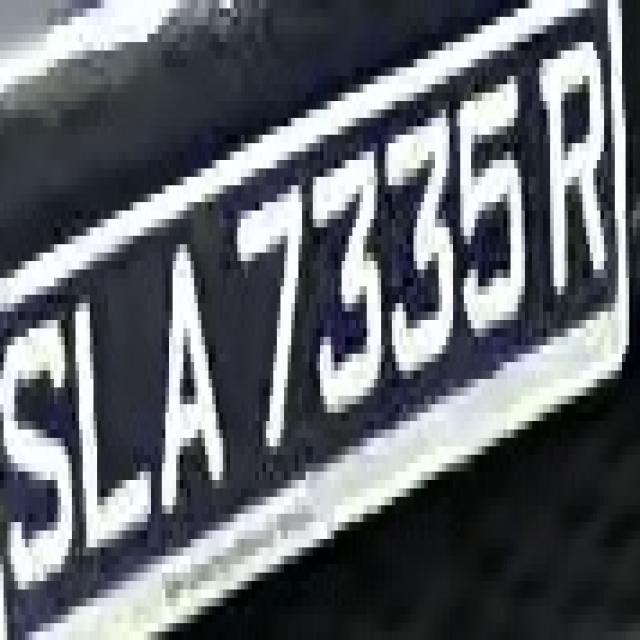3: (302, 135, 385, 421), (384, 68, 456, 388)
5: (453, 75, 532, 354)
7: (223, 168, 313, 480)
A: (136, 228, 226, 548)
L: (72, 253, 158, 564)
R: (536, 25, 618, 328)
S: (7, 286, 76, 606)
